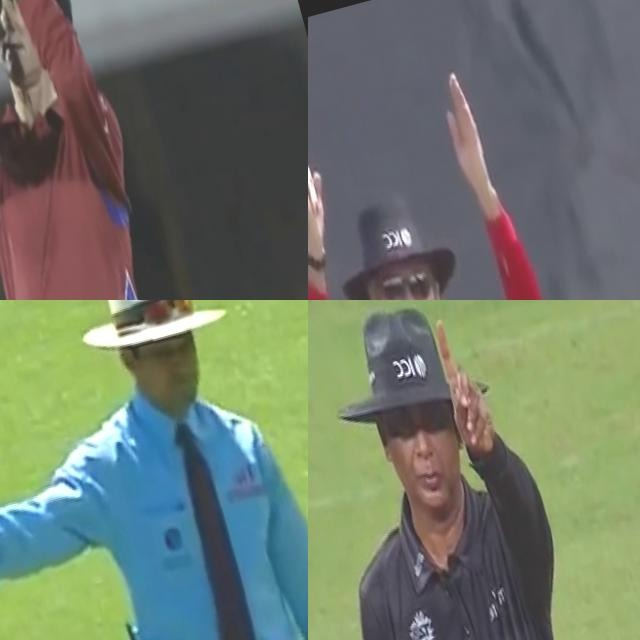No_Ball: (0, 300, 308, 640)
Out: (308, 300, 619, 640)
Six: (308, 42, 609, 300), (0, 0, 231, 300)
